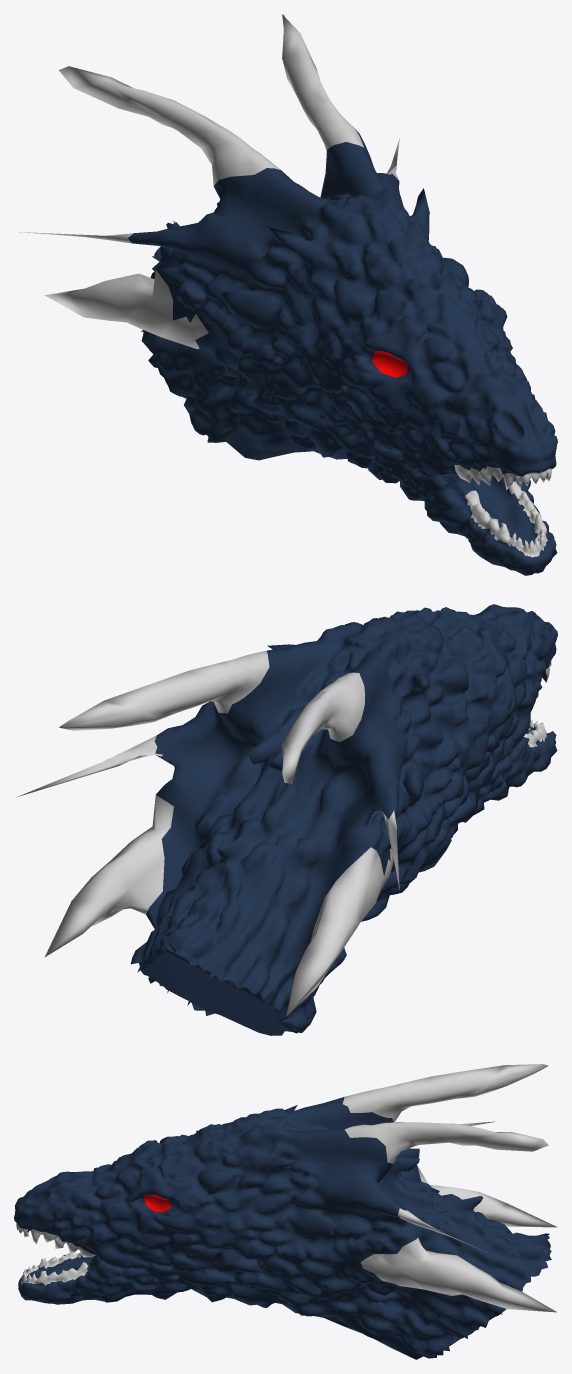
Rendered from DragonNew.FBX.
3 renders of one model, top to bottom at view 1: azimuth 30°, elevation 25°; view 2: azimuth 150°, elevation 25°; view 3: azimuth 270°, elevation 25°, orthographic. The views are drawn at different scales.
Parts seen in each view (by area): view 1: smok; view 2: smok; view 3: smok.
Boxes of the visible parts, bbox=[...] form: smok: bbox=[19, 14, 557, 575]; smok: bbox=[15, 604, 557, 1035]; smok: bbox=[14, 1064, 557, 1359].
Size of the model in its own units: 44.22 by 39.21 by 74.8.
